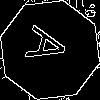A: (25, 25, 78, 70)
